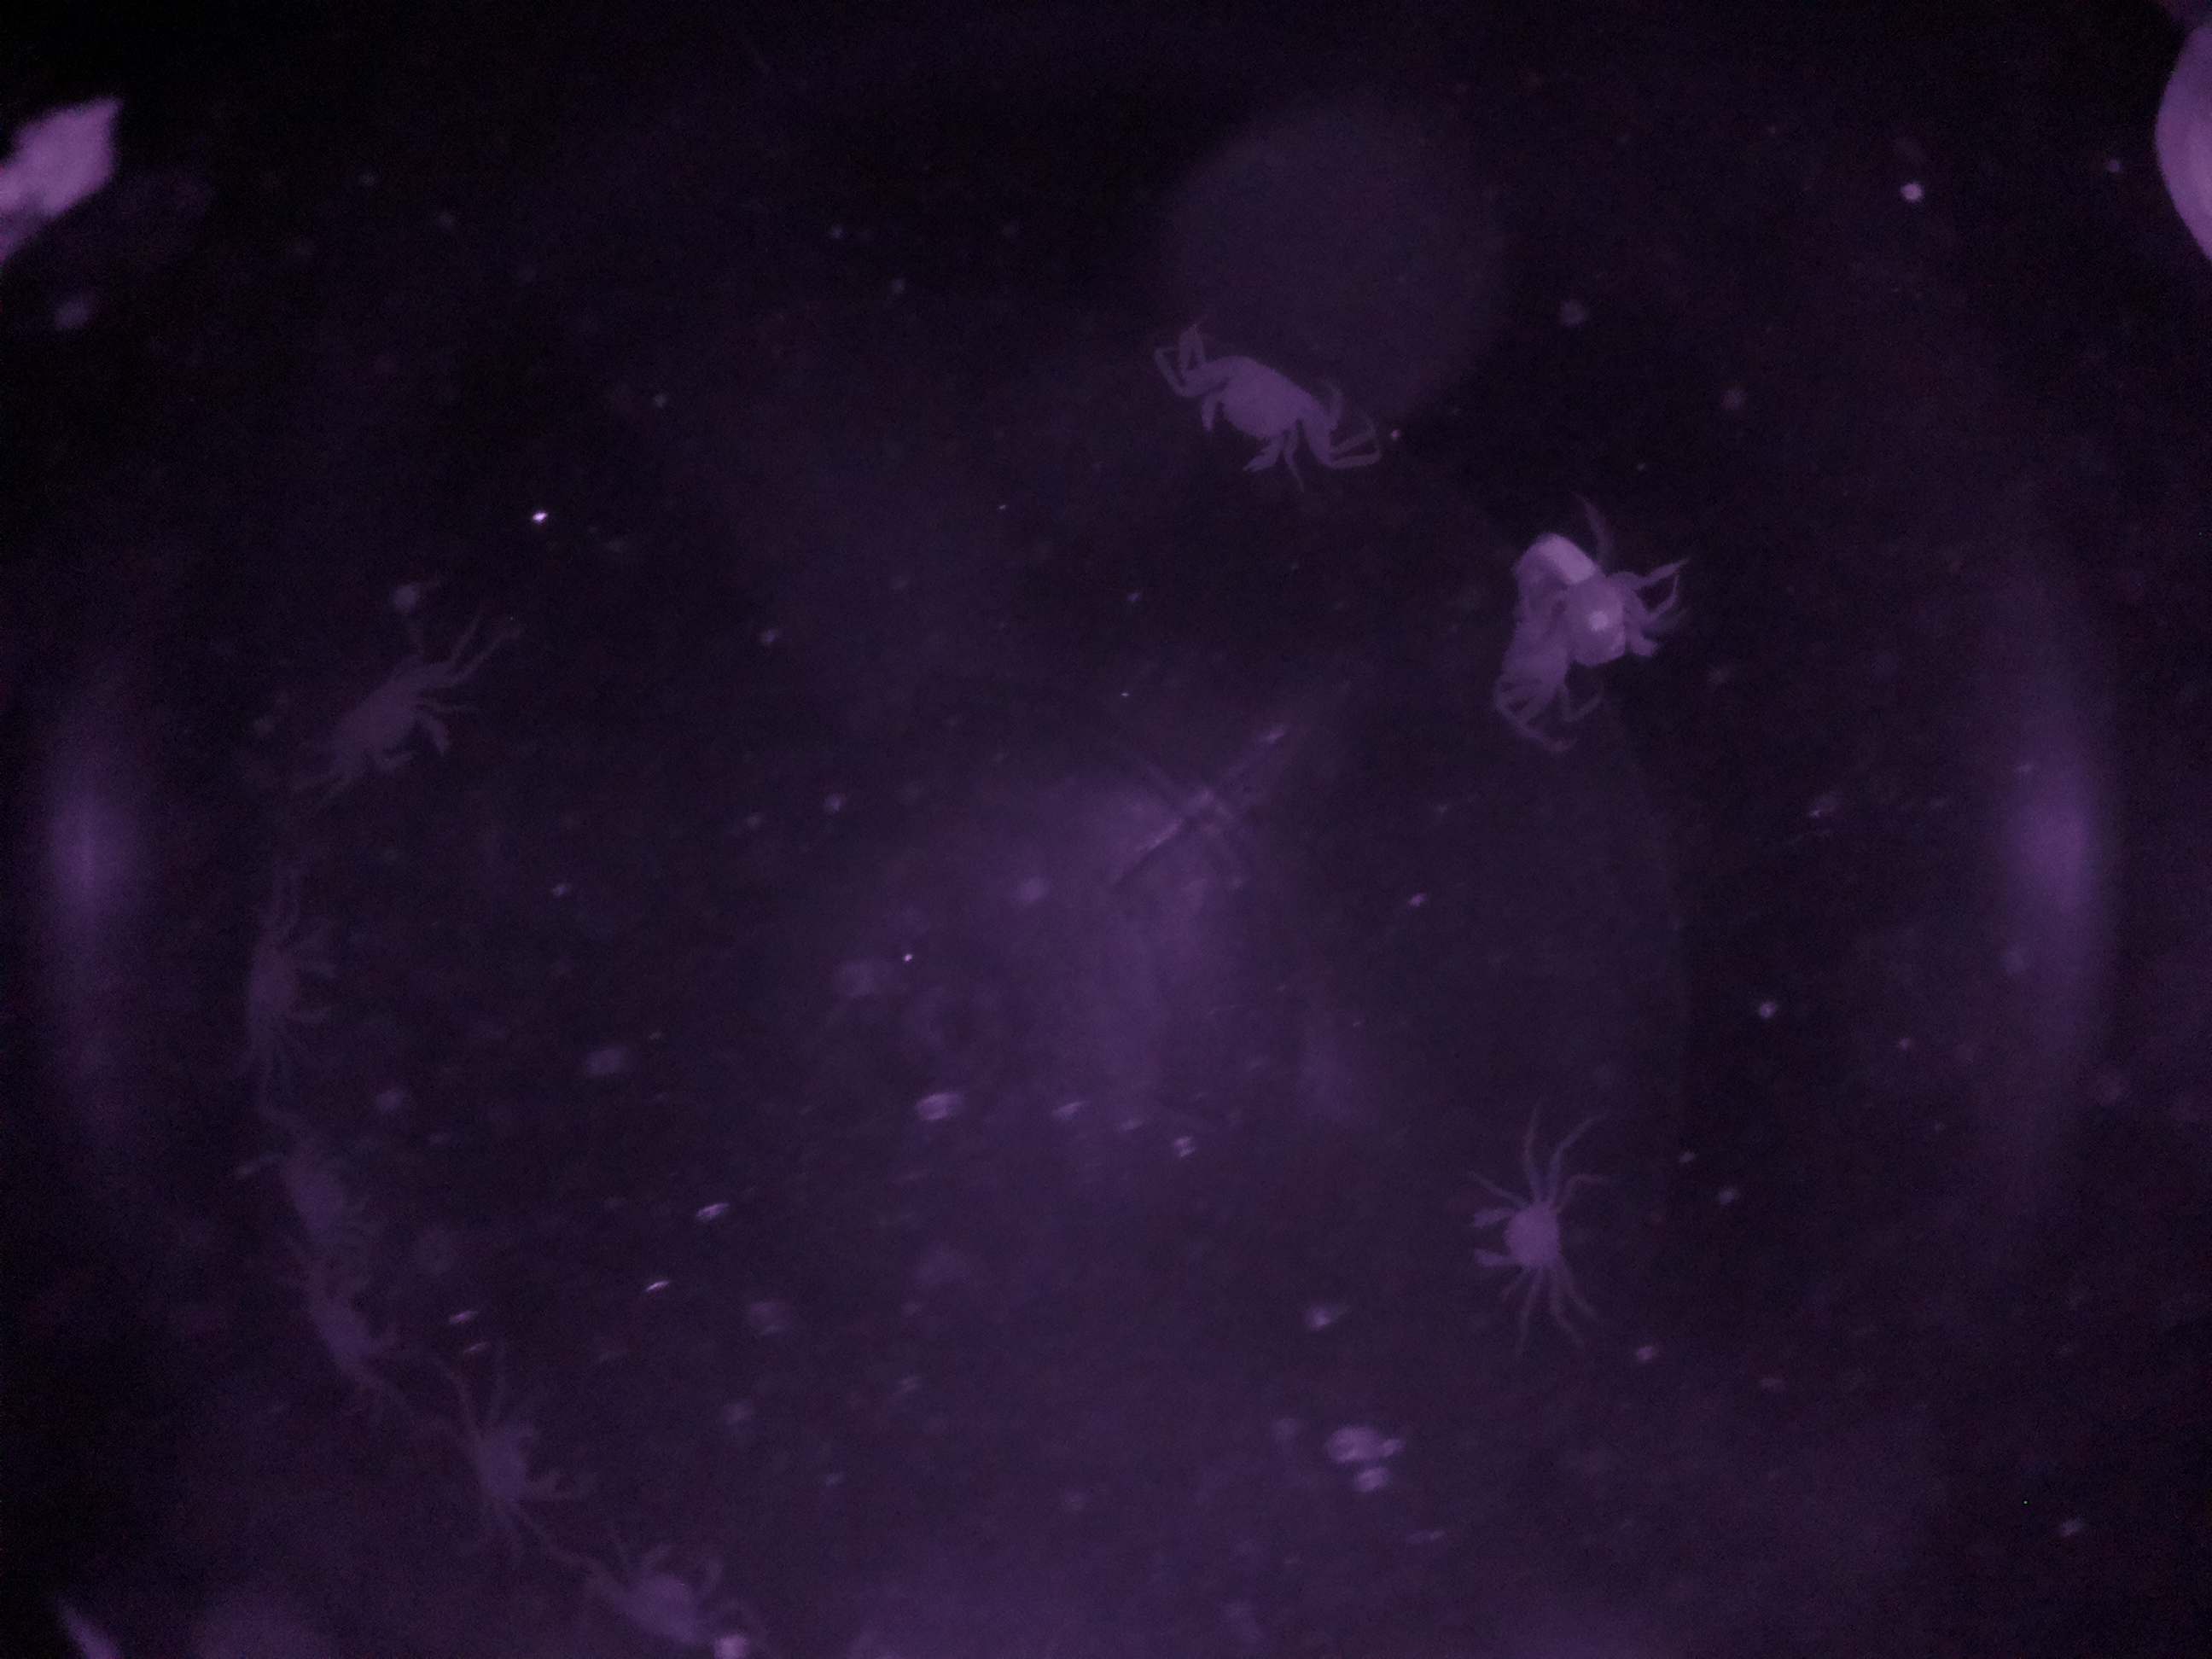Crab: (303, 612, 479, 807), (1163, 308, 1345, 497), (428, 1384, 585, 1540), (1458, 1145, 1595, 1305)
